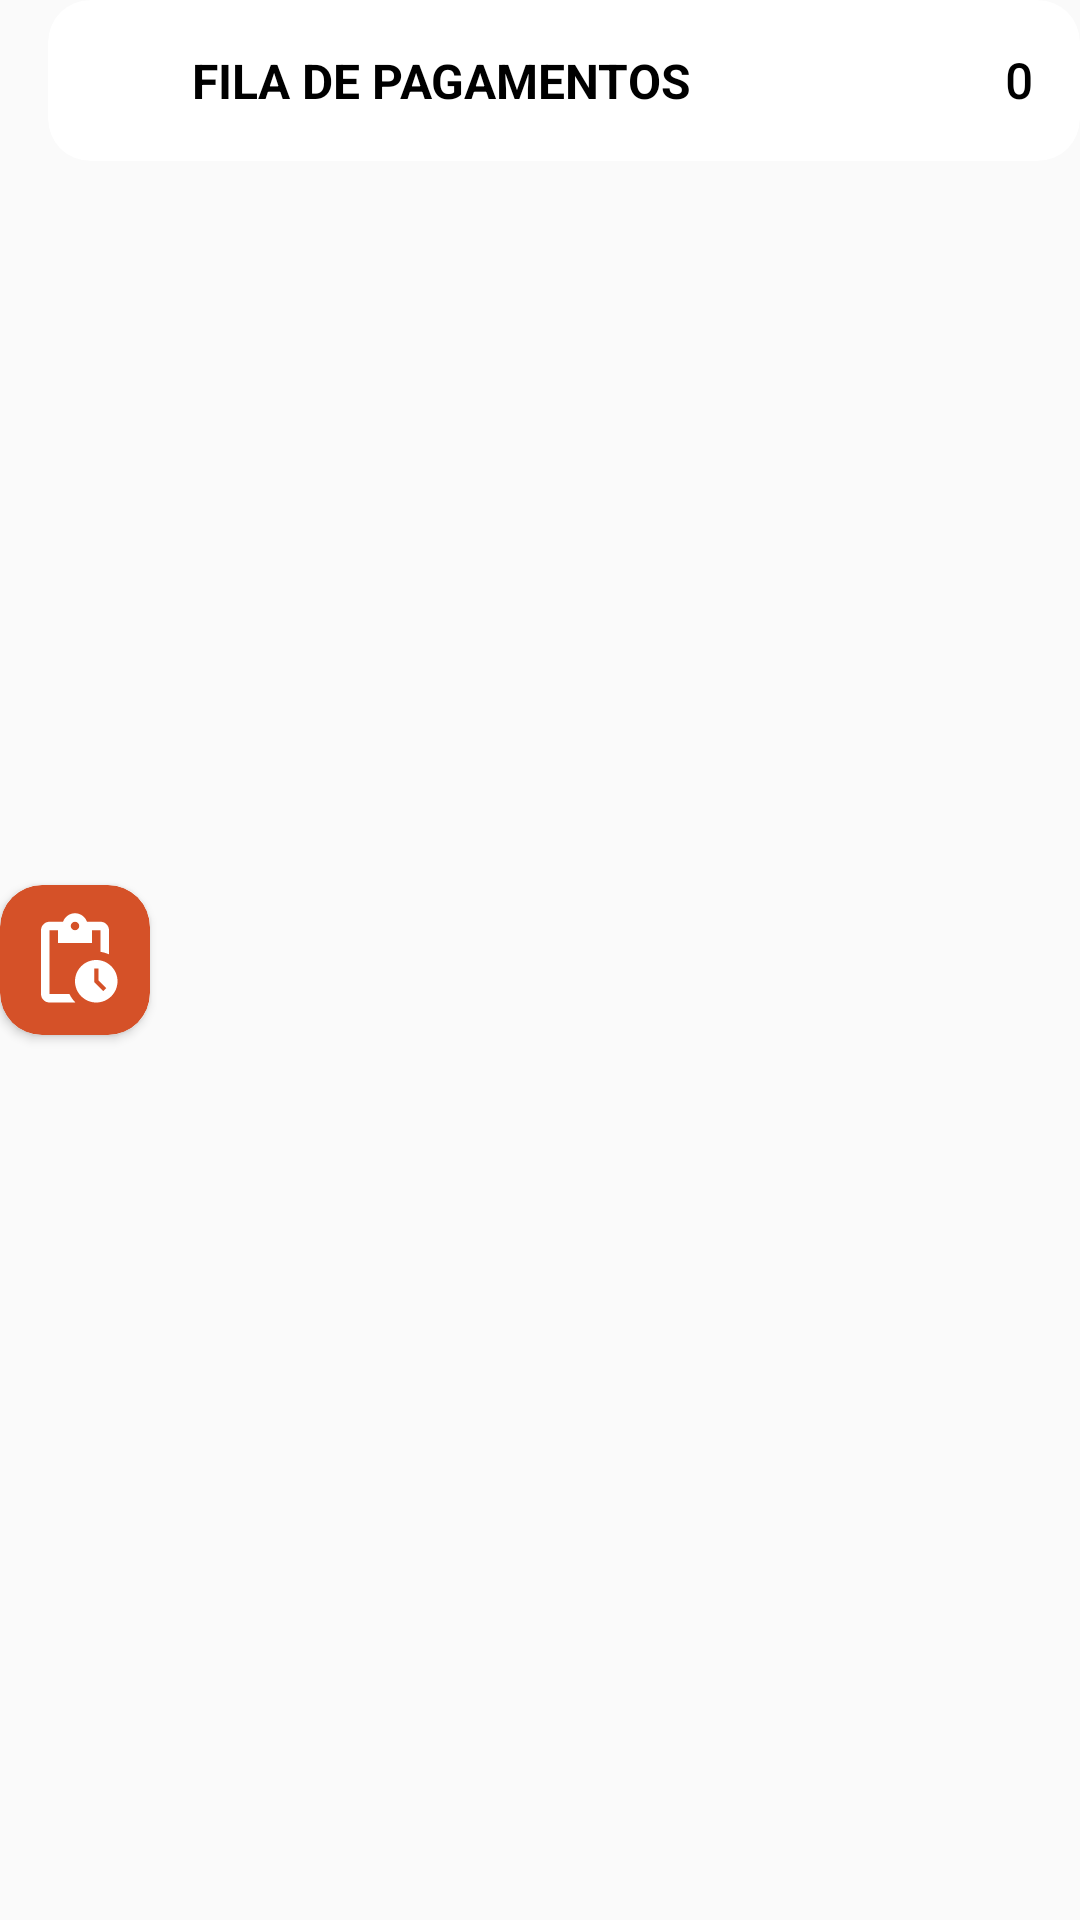

Screen size 1080px×1920px. Icon name, then its box in pixels as (x1=x1, y1=y1, x2=x2, y2=y2):
pending actions: (x1=41, y1=913, x2=118, y2=1003)
